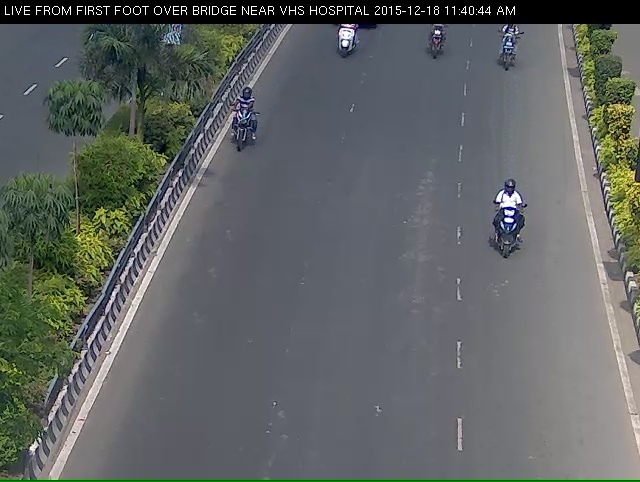Person: (493, 200, 529, 288), (218, 97, 261, 169), (420, 15, 452, 69), (326, 23, 358, 70), (496, 25, 520, 84)
